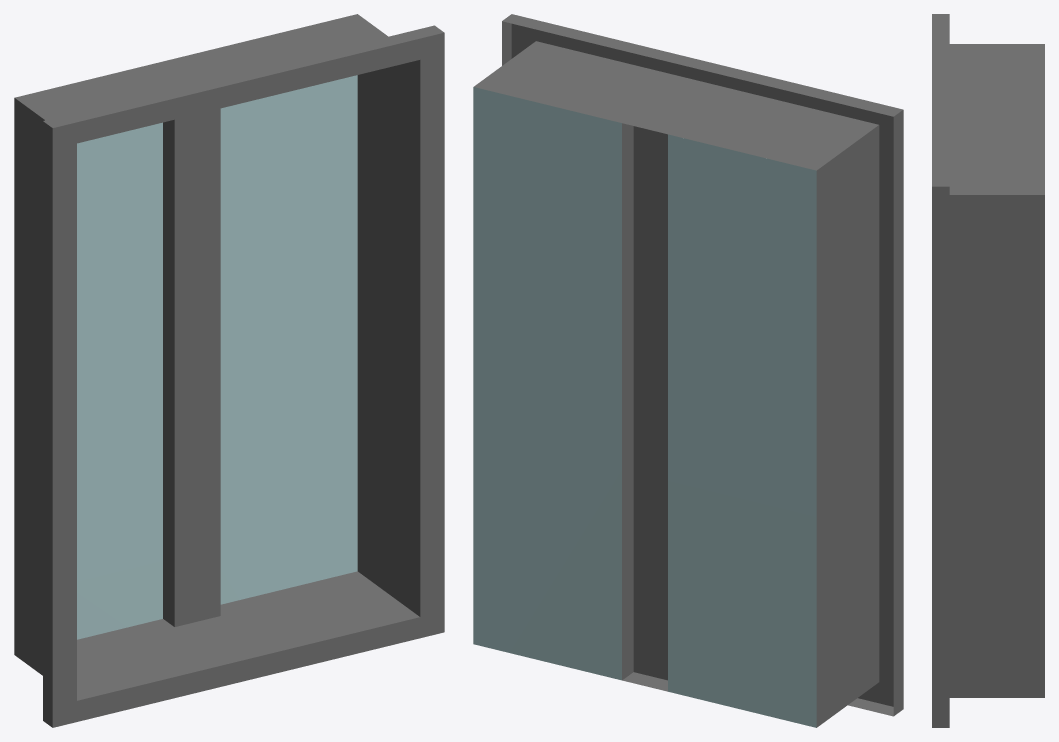
Rendered from Window 1.fbx.
3 views of the same model, side by side, from view 1: azimuth 30°, elevation 25°; view 2: azimuth 150°, elevation 25°; view 3: azimuth 270°, elevation 25° (orthographic). The views are drawn at different scales.
Visible parts, largest first — view 1: New Stekla.001; view 2: New Stekla.001; view 3: New Stekla.001.
Part boxes in pixels (x1,y1,x2,y2): New Stekla.001: (14,14,444,727); New Stekla.001: (473,14,903,727); New Stekla.001: (932,14,1044,727).
Bounding box in the file's own units: 216 × 316 × 59.74.
